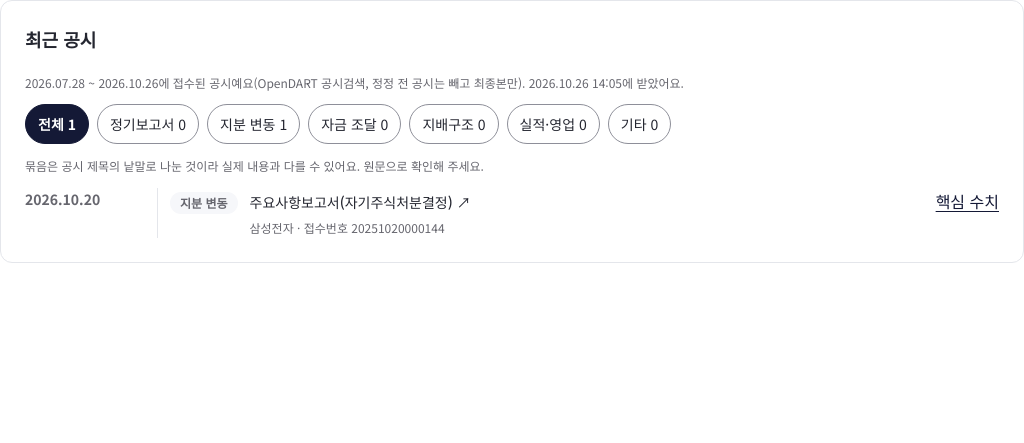
Test: 핵심 수치 › 최신 정정본 값을 쓴 원본은 정정본 접수번호로 출처와 원문 링크를 보여 준다
Click the button "핵심 수치" at (967, 202), box [936,188,999,215]
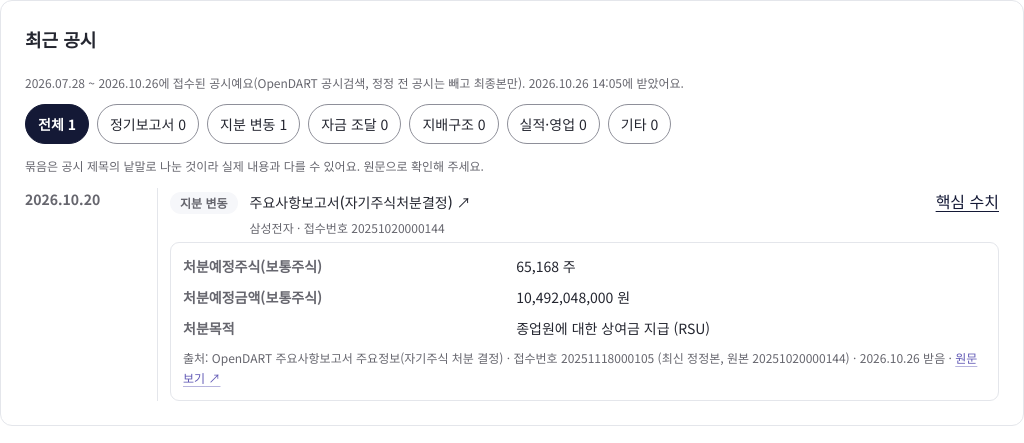
Expected: the text "접수번호 20251118000105 (최신 정정본, 원본 20251020000144)" is shown, [183,348,986,388]
